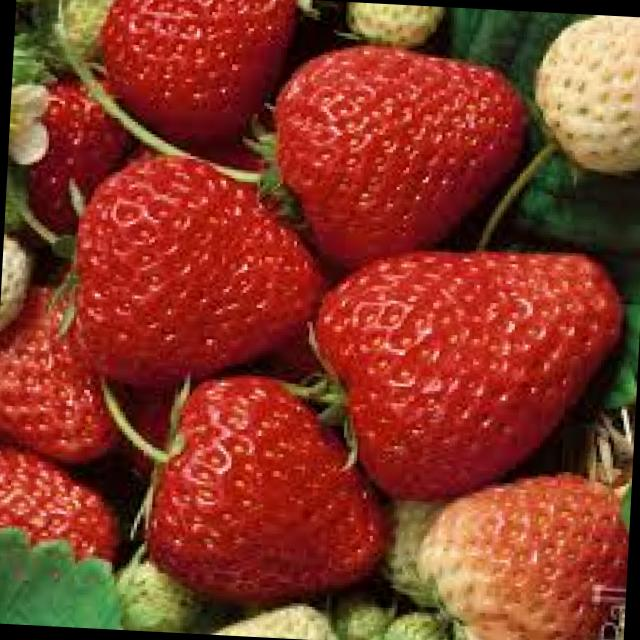tofu: (295, 222, 640, 516), (58, 160, 324, 416), (272, 39, 530, 278), (109, 378, 382, 601), (393, 468, 632, 640)
